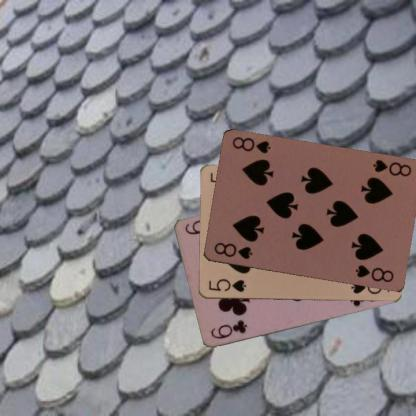5s: (206, 276, 248, 294)
6c: (208, 317, 249, 341)
8s: (370, 157, 412, 178), (211, 240, 254, 260)
